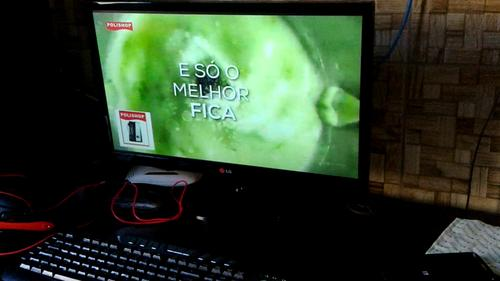Polishop #1: (116, 108, 155, 150)
